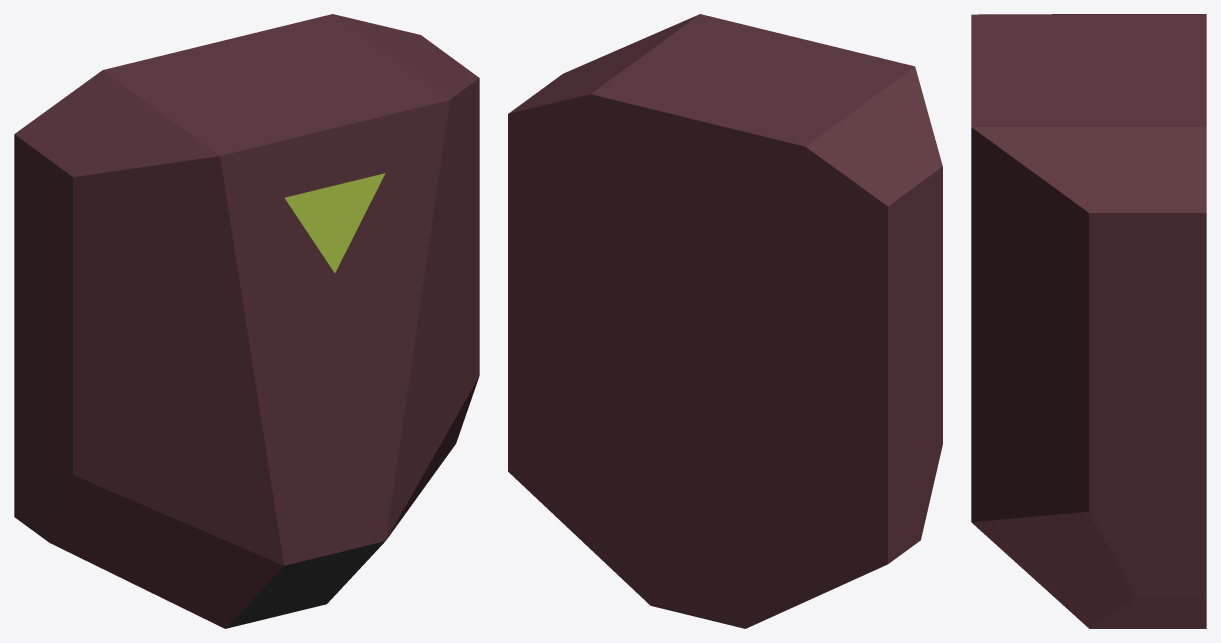
File: props-wallbox.glb
The picture shows the model from 3 angles, left to right: view 1: azimuth 30°, elevation 25°; view 2: azimuth 150°, elevation 25°; view 3: azimuth 270°, elevation 25°; orthographic projection. The views are drawn at different scales.
Parts seen in each view (by area): view 1: wallbox; view 2: wallbox; view 3: wallbox.
Part boxes in pixels (x1,y1,x2,y2): wallbox: (14,14,479,628); wallbox: (508,14,942,628); wallbox: (971,14,1206,628).
Size of the model in its own units: 0.2 by 0.25 by 0.1.
